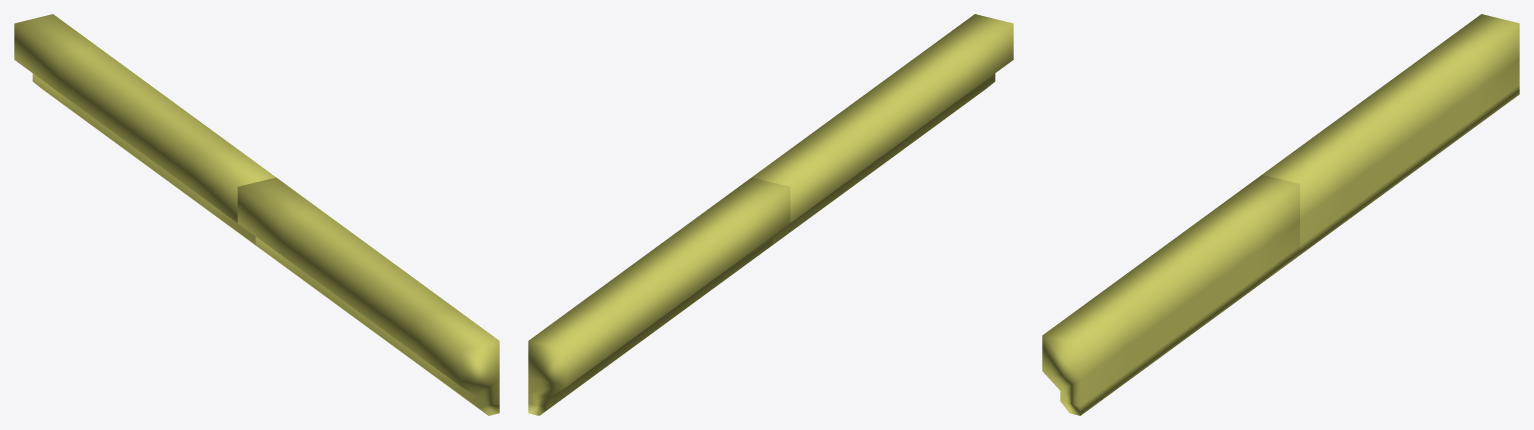
File: Wall_Orn_04_x2.fbx
3 renders of one model, left to right at view 1: azimuth 30°, elevation 25°; view 2: azimuth 150°, elevation 25°; view 3: azimuth 330°, elevation 25°, orthographic.
Visible parts, largest first — view 1: Wall_Orn_04_x2; view 2: Wall_Orn_04_x2; view 3: Wall_Orn_04_x2.
Boxes of the visible parts, x1,y1,x2,y2 form: Wall_Orn_04_x2: (14, 14, 499, 415); Wall_Orn_04_x2: (528, 14, 1013, 415); Wall_Orn_04_x2: (1042, 14, 1519, 415).
Size of the model in its own units: 30 by 53.75 by 600.
